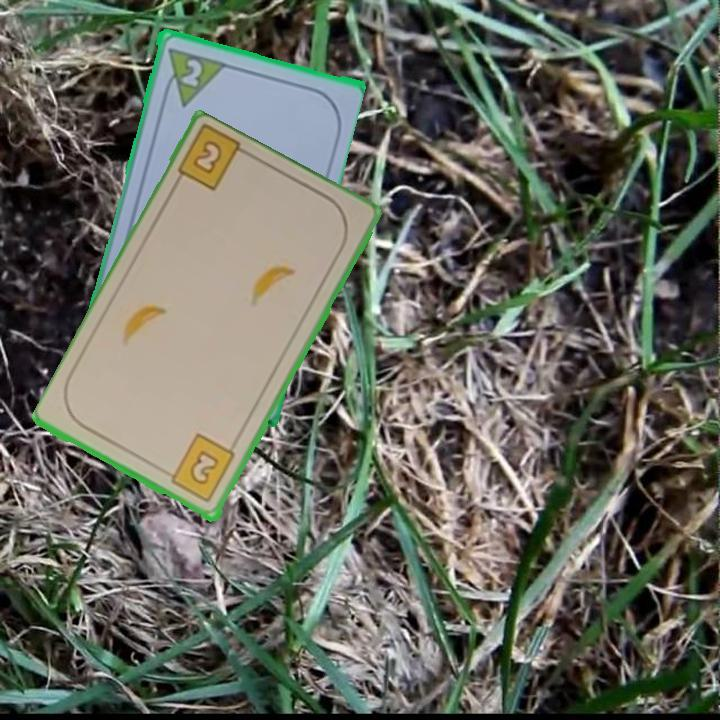2b: (160, 431, 239, 506), (189, 137, 226, 178)
2p: (177, 54, 205, 89)
